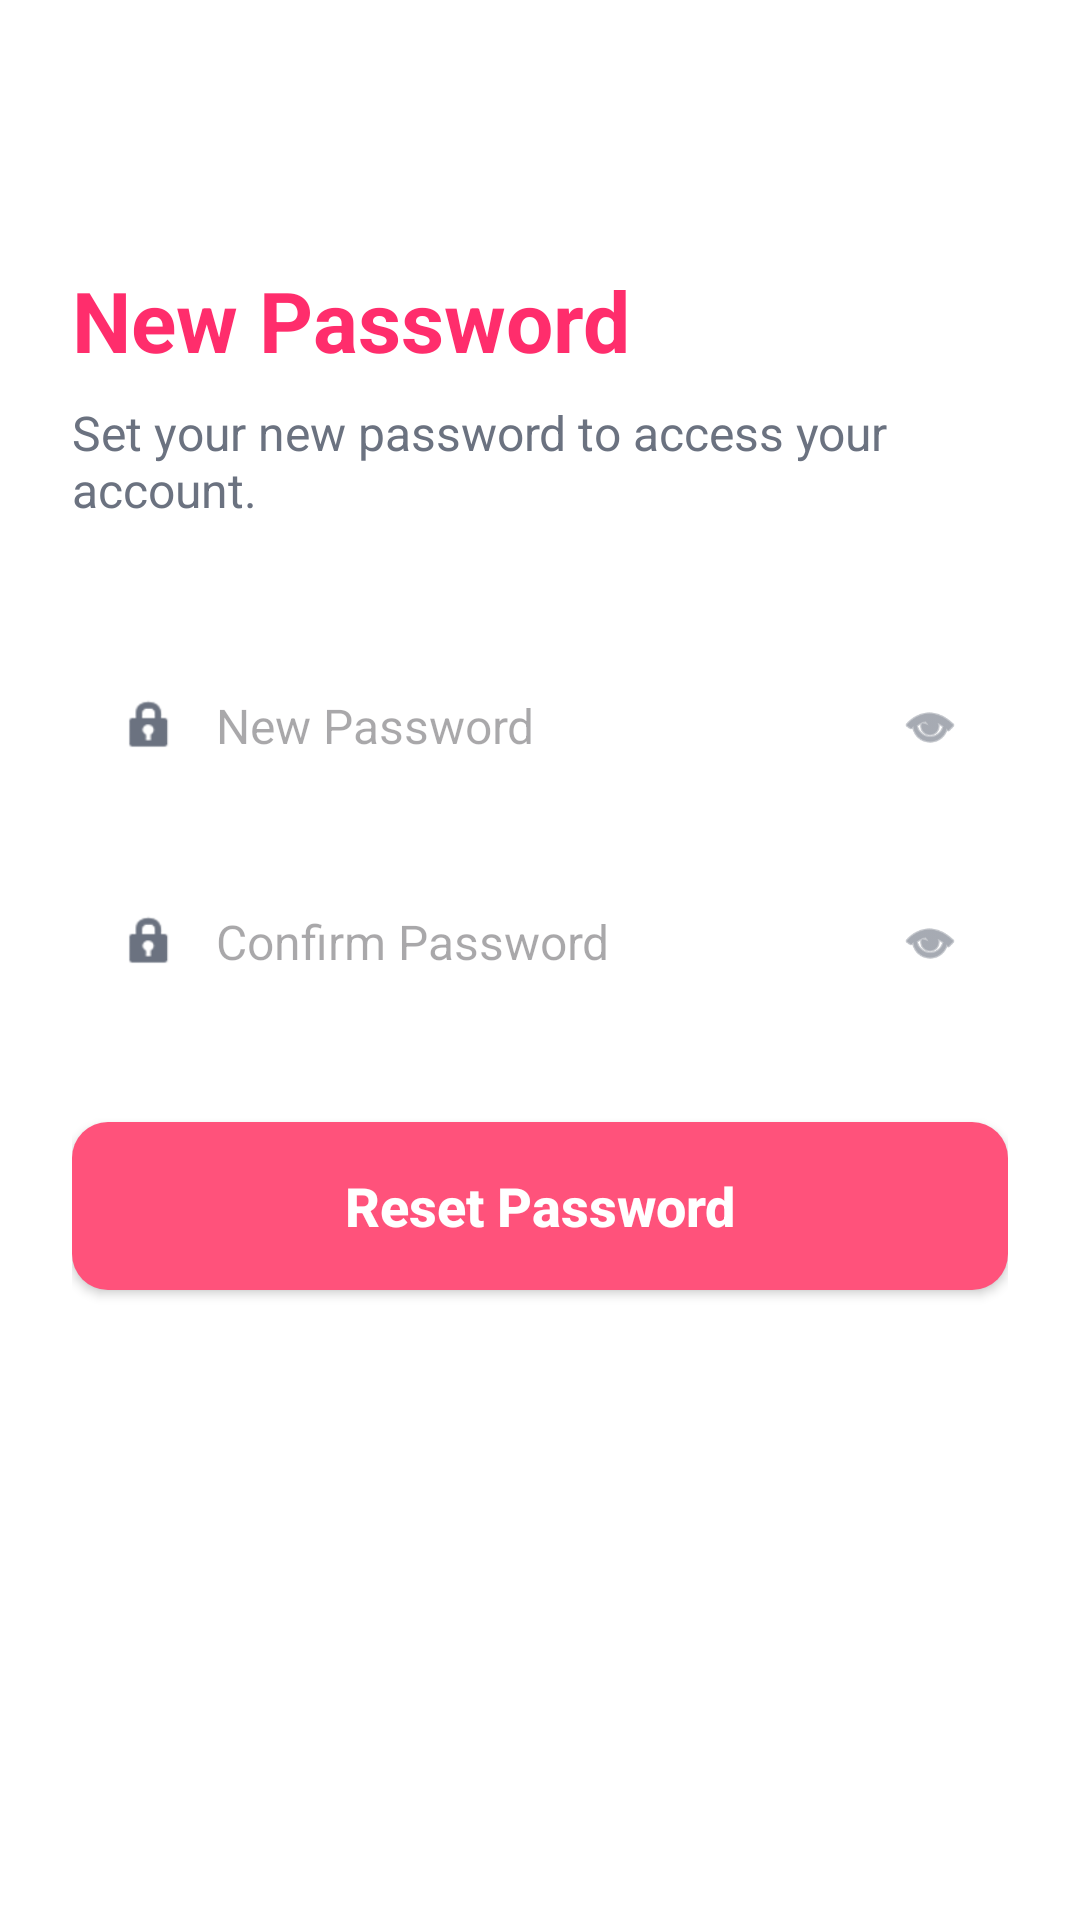

Screen size 1080 × 1920. Icon name, then its center in pixels as [x,y]:
lock idle: [148,724], [148,940]
view: [930,727], [930,943]
